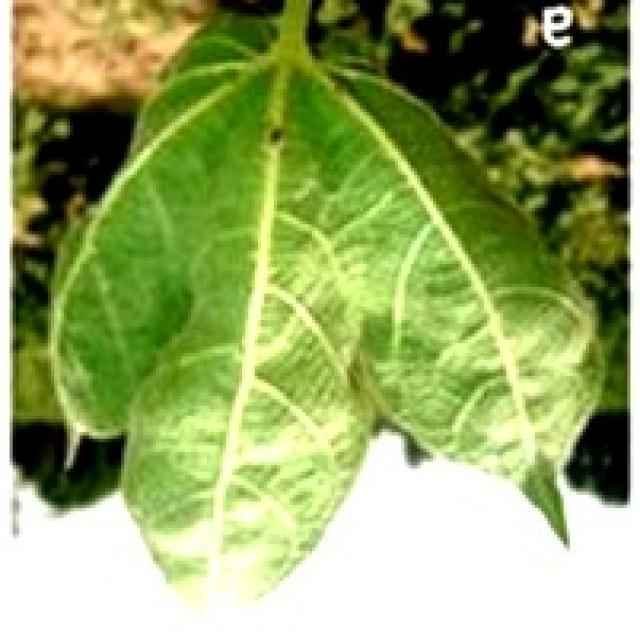Leaf Curl Virus: (147, 70, 488, 477)
